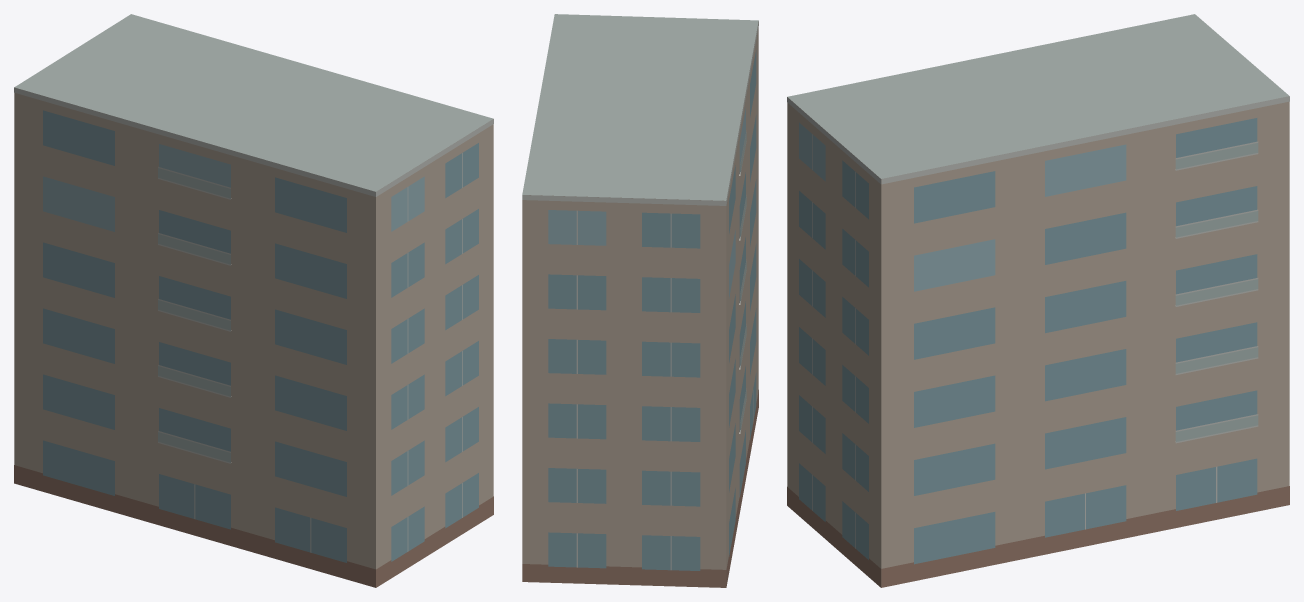
File: survey-upis-32700357.glb
The picture shows the model from 3 angles, left to right: view 1: azimuth 30°, elevation 25°; view 2: azimuth 150°, elevation 25°; view 3: azimuth 270°, elevation 25°; orthographic projection. The views are drawn at different scales.
Visible parts, largest first — view 1: survey-upis-32700357.tmp; view 2: survey-upis-32700357.tmp; view 3: survey-upis-32700357.tmp.
Boxes of the visible parts, <box> form: survey-upis-32700357.tmp: <box>14,14,493,587</box>; survey-upis-32700357.tmp: <box>522,14,758,587</box>; survey-upis-32700357.tmp: <box>787,14,1289,587</box>.
Size of the model in its own units: 15.85 by 18.3 by 20.4.
